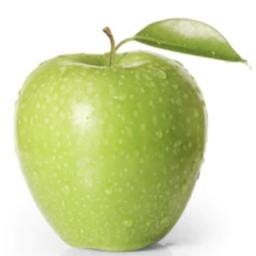Apple Fresh: (12, 2, 253, 256)
